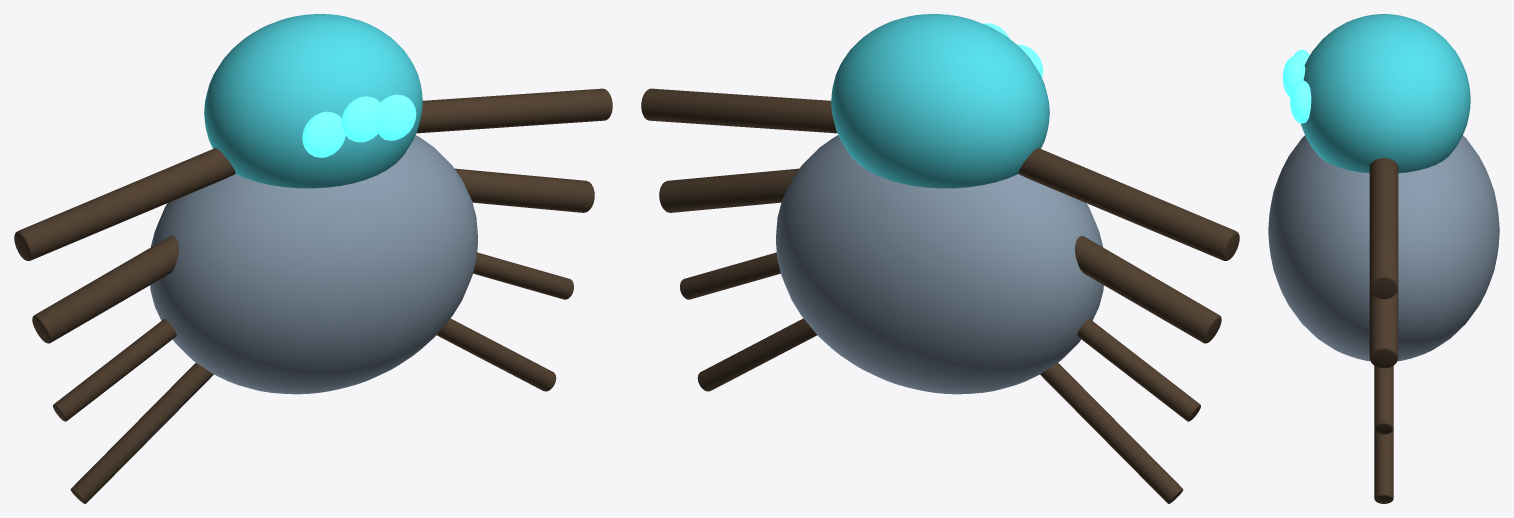
The model's file is arachnid_v6.glb.
3 renders of one model, left to right at view 1: azimuth 30°, elevation 25°; view 2: azimuth 150°, elevation 25°; view 3: azimuth 270°, elevation 25°, orthographic. The views are drawn at different scales.
Visible parts, largest first — view 1: CRAB_SPIDER_BODY_PRIMARY, CRAB_SPIDER_HEAD_ACCENT, CRAB_SPIDER_LEG_SECONDARY, CRAB_SPIDER_LEG_SECONDARY.001, CRAB_SPIDER_LEG_SECONDARY.002, CRAB_SPIDER_LEG_SECONDARY.003, CRAB_SPIDER_LEG_SECONDARY.006, CRAB_SPIDER_LEG_SECONDARY.004, CRAB_SPIDER_LEG_SECONDARY.007, CRAB_SPIDER_LEG_SECONDARY.005, EYE_EMISSIVE.001, EYE_EMISSIVE (+1 smaller); view 2: CRAB_SPIDER_BODY_PRIMARY, CRAB_SPIDER_HEAD_ACCENT, CRAB_SPIDER_LEG_SECONDARY, CRAB_SPIDER_LEG_SECONDARY.001, CRAB_SPIDER_LEG_SECONDARY.002, CRAB_SPIDER_LEG_SECONDARY.003, CRAB_SPIDER_LEG_SECONDARY.006, CRAB_SPIDER_LEG_SECONDARY.004, CRAB_SPIDER_LEG_SECONDARY.007, CRAB_SPIDER_LEG_SECONDARY.005; view 3: CRAB_SPIDER_BODY_PRIMARY, CRAB_SPIDER_HEAD_ACCENT, CRAB_SPIDER_LEG_SECONDARY.001, CRAB_SPIDER_LEG_SECONDARY.003, CRAB_SPIDER_LEG_SECONDARY.007, CRAB_SPIDER_LEG_SECONDARY.005, EYE_EMISSIVE.002, EYE_EMISSIVE.001.
Part boxes in pixels (<box>): CRAB_SPIDER_BODY_PRIMARY: <box>150,135,477,394</box>; CRAB_SPIDER_HEAD_ACCENT: <box>204,14,422,188</box>; CRAB_SPIDER_LEG_SECONDARY: <box>14,148,235,260</box>; CRAB_SPIDER_LEG_SECONDARY.001: <box>416,88,612,133</box>; CRAB_SPIDER_LEG_SECONDARY.002: <box>32,236,178,343</box>; CRAB_SPIDER_LEG_SECONDARY.003: <box>455,168,594,212</box>; CRAB_SPIDER_LEG_SECONDARY.006: <box>70,363,213,503</box>; CRAB_SPIDER_LEG_SECONDARY.004: <box>53,319,176,421</box>; CRAB_SPIDER_LEG_SECONDARY.007: <box>437,318,556,391</box>; CRAB_SPIDER_LEG_SECONDARY.005: <box>473,252,573,299</box>; EYE_EMISSIVE.001: <box>341,96,385,142</box>; EYE_EMISSIVE: <box>302,111,345,157</box>; CRAB_SPIDER_BODY_PRIMARY: <box>776,135,1103,394</box>; CRAB_SPIDER_HEAD_ACCENT: <box>831,14,1049,188</box>; CRAB_SPIDER_LEG_SECONDARY: <box>1018,148,1239,260</box>; CRAB_SPIDER_LEG_SECONDARY.001: <box>641,88,837,133</box>; CRAB_SPIDER_LEG_SECONDARY.002: <box>1075,236,1221,343</box>; CRAB_SPIDER_LEG_SECONDARY.003: <box>659,168,798,212</box>; CRAB_SPIDER_LEG_SECONDARY.006: <box>1040,363,1183,503</box>; CRAB_SPIDER_LEG_SECONDARY.004: <box>1077,319,1200,421</box>; CRAB_SPIDER_LEG_SECONDARY.007: <box>697,318,816,391</box>; CRAB_SPIDER_LEG_SECONDARY.005: <box>680,252,780,299</box>; CRAB_SPIDER_BODY_PRIMARY: <box>1268,135,1499,361</box>; CRAB_SPIDER_HEAD_ACCENT: <box>1300,14,1470,173</box>; CRAB_SPIDER_LEG_SECONDARY.001: <box>1369,158,1398,299</box>; CRAB_SPIDER_LEG_SECONDARY.003: <box>1369,289,1398,368</box>; CRAB_SPIDER_LEG_SECONDARY.007: <box>1374,429,1393,503</box>; CRAB_SPIDER_LEG_SECONDARY.005: <box>1374,366,1393,434</box>; EYE_EMISSIVE.002: <box>1290,80,1311,123</box>; EYE_EMISSIVE.001: <box>1282,56,1305,97</box>.
Size of the model in its own units: 2.52 by 1.73 by 0.96.
